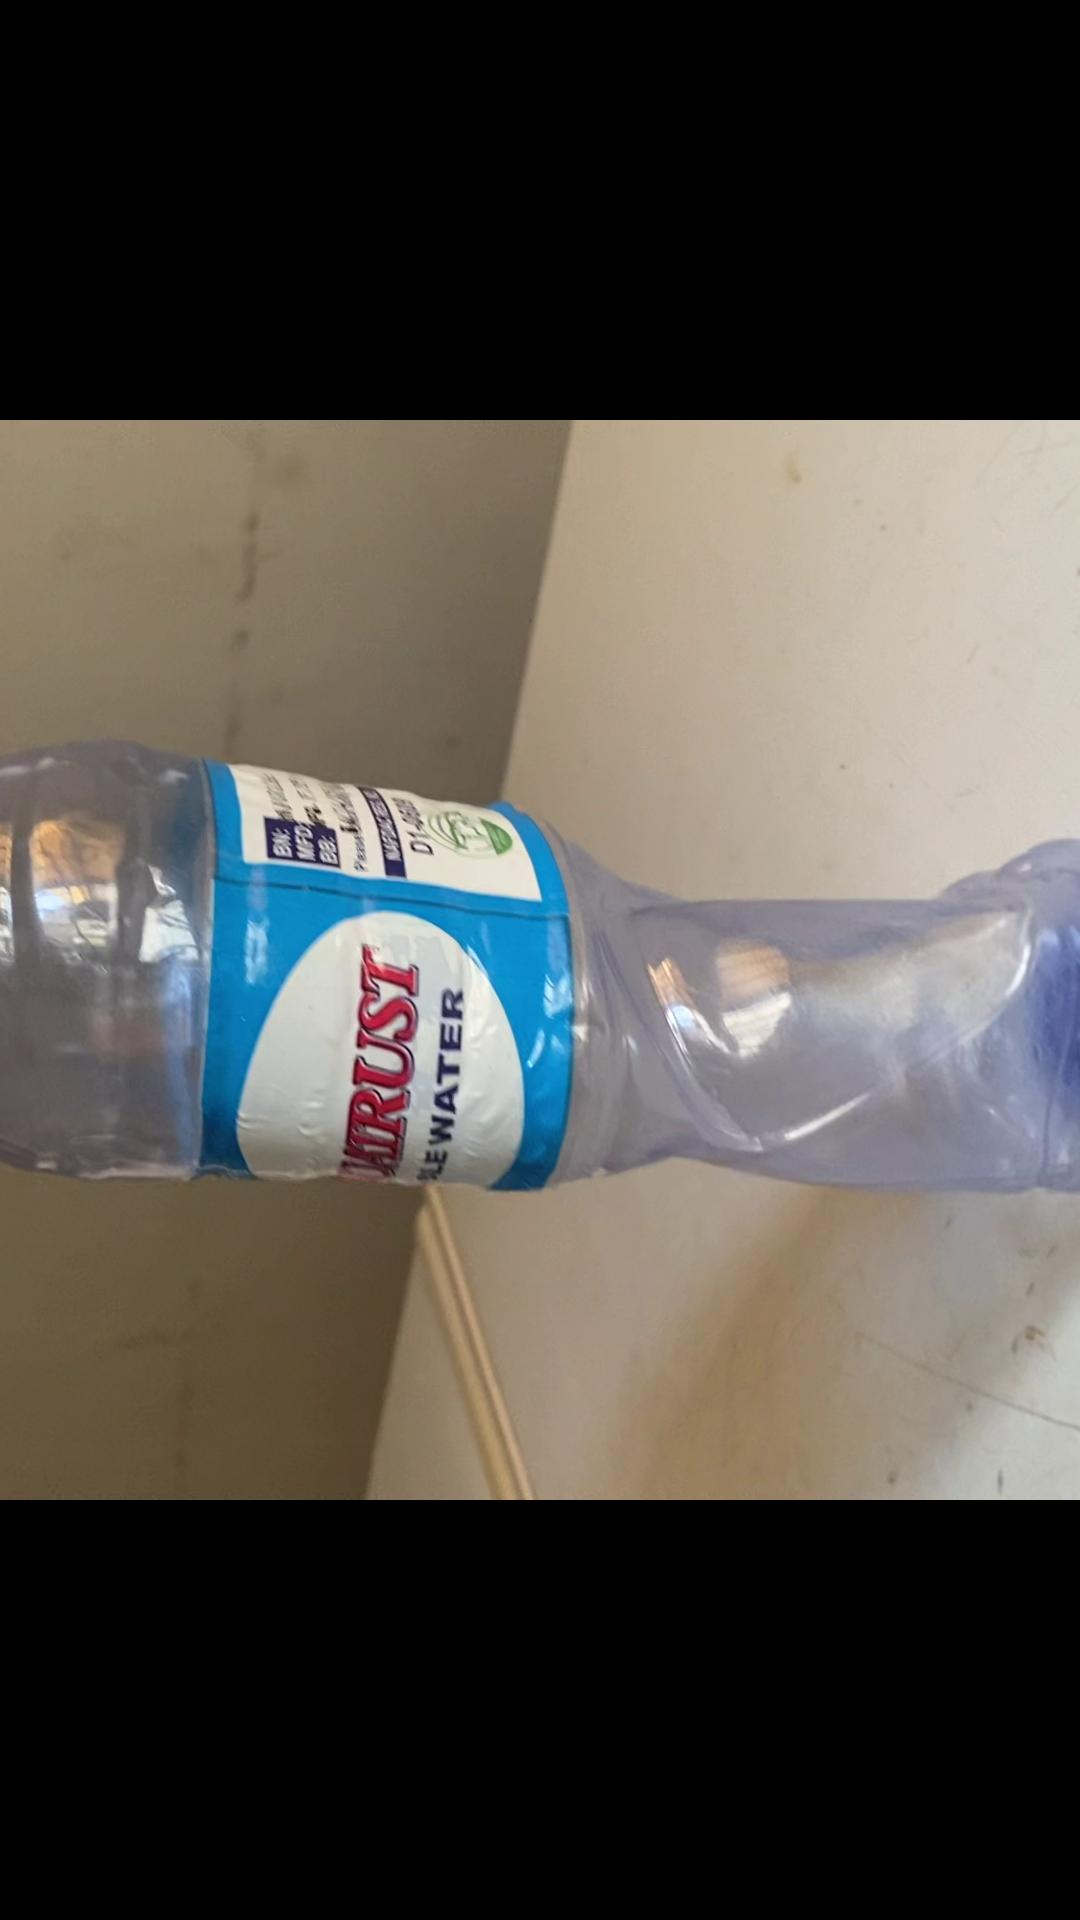crumbled: (0, 729, 1080, 1199)
label: (198, 761, 564, 1176)
